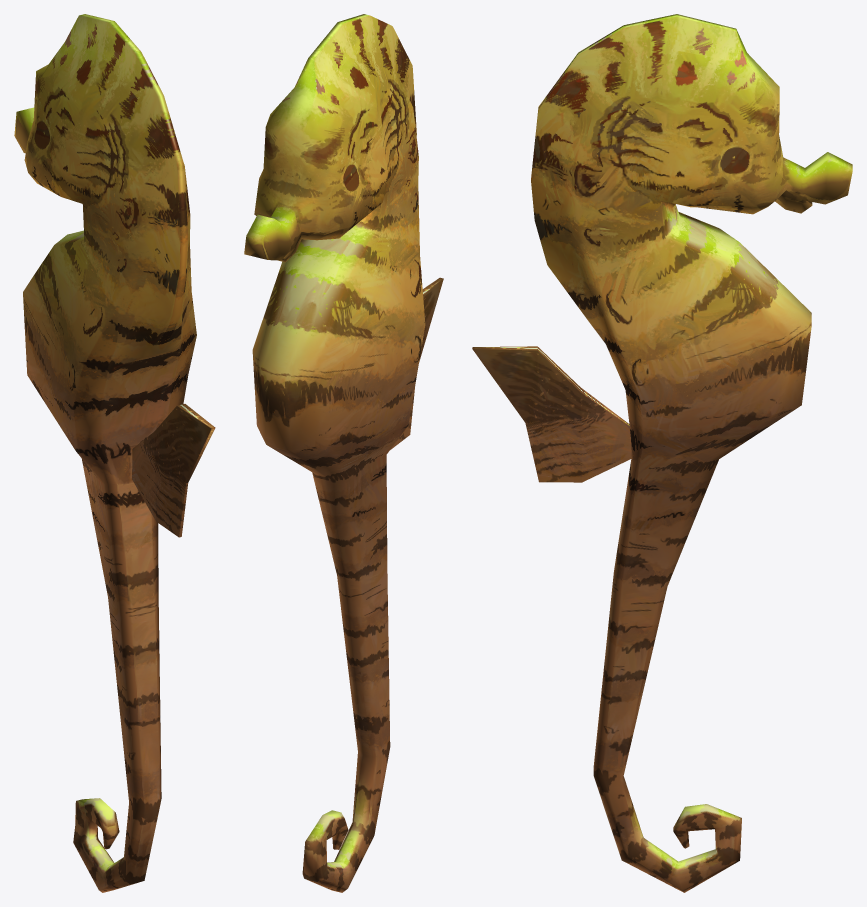
Rendered from Seahorse.fbx.
3 views of the same model, side by side, from view 1: azimuth 30°, elevation 25°; view 2: azimuth 150°, elevation 25°; view 3: azimuth 270°, elevation 25° (orthographic).
Visible parts, largest first — view 1: pCube10; view 2: pCube10; view 3: pCube10.
Boxes of the visible parts, box(x1,y1,x2,y2) form: pCube10: box(14, 14, 215, 892); pCube10: box(244, 14, 443, 892); pCube10: box(472, 14, 852, 892).
Bounding box in the file's own units: 0.3495 × 2.46 × 0.9706.
1 material, 1 textured.
